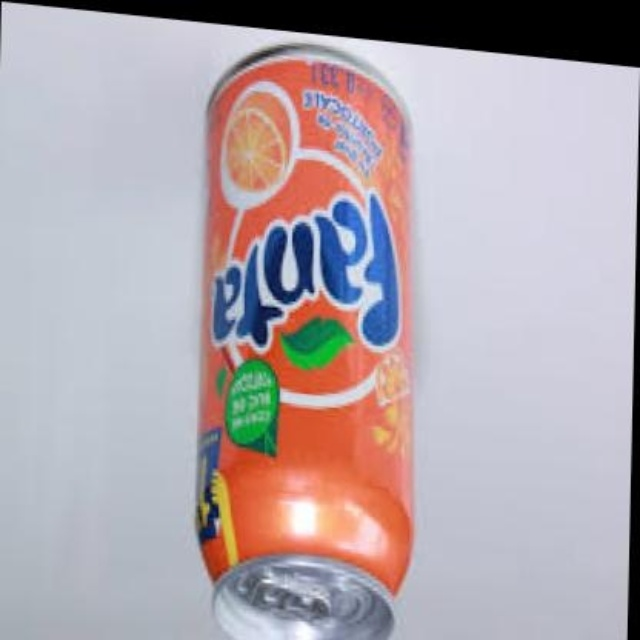trash: (197, 46, 411, 638)
